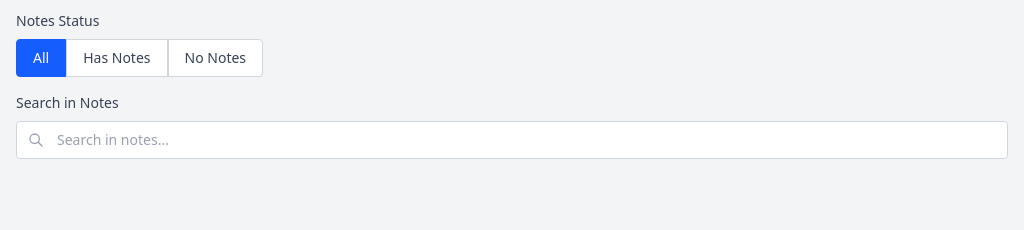
Test: NotesFilter › Keyword Search › clears input when clear button clicked
Type "test" into the field with placeholder "Search in notes...".
click(512, 140); type("test")  # box [16, 121, 1008, 159]
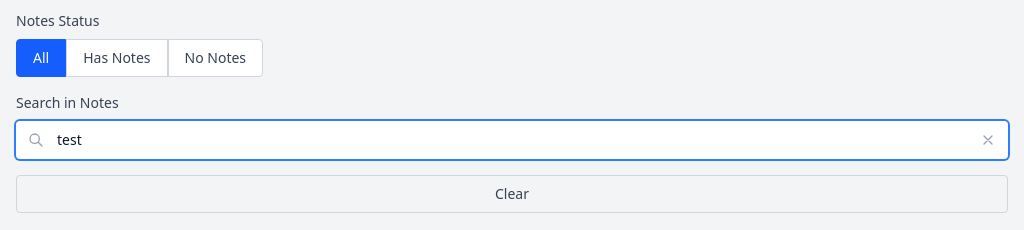
Now the button named "clear search" is shown
Click the button named "clear search".
click(994, 140)  # box [980, 121, 1008, 159]
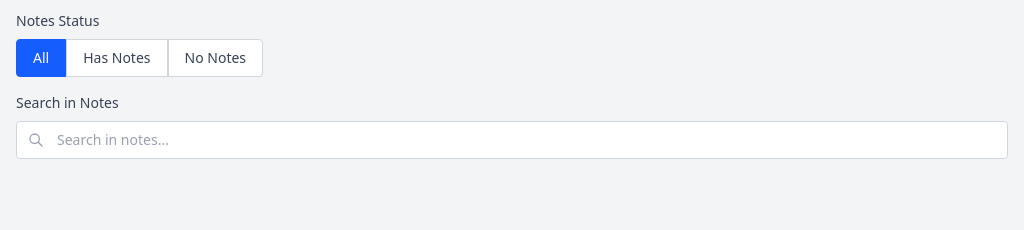
Now the field with placeholder "Search in notes..." is empty, box [16, 121, 1008, 159]
